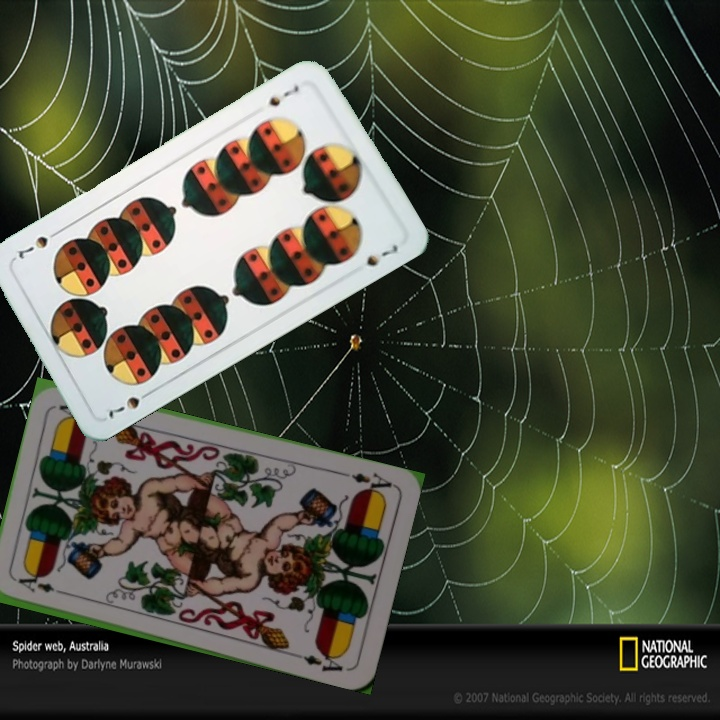EA: (337, 468, 395, 498), (14, 574, 70, 596)
S7: (104, 386, 155, 422), (265, 81, 302, 110)
